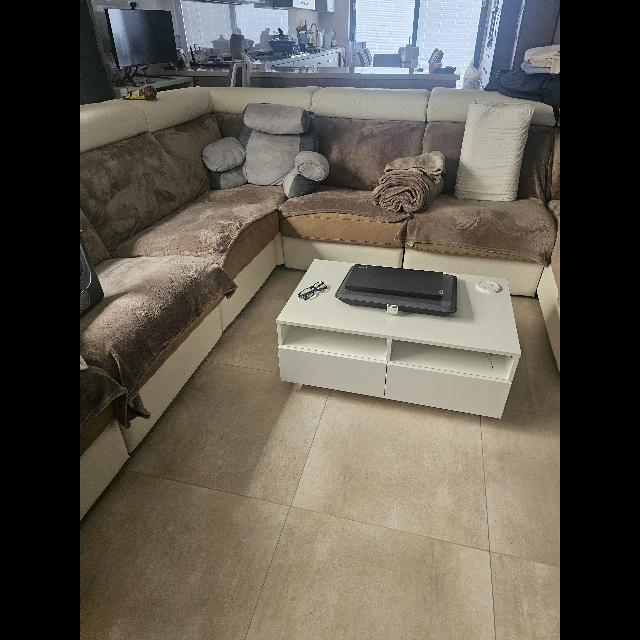glasses: (298, 282, 326, 300)
